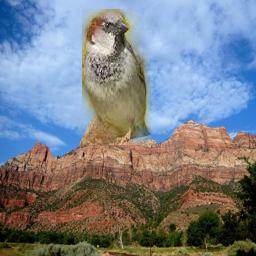Sparrow: (83, 9, 152, 145)
